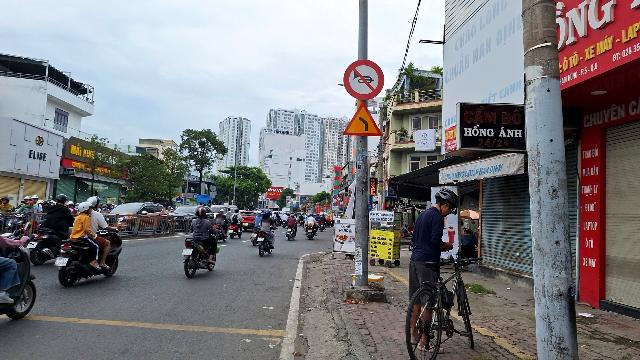cam-bop-coi: (343, 58, 385, 101)
cho-ngoat-nguy-hiem-ben-trai: (342, 102, 382, 137)
